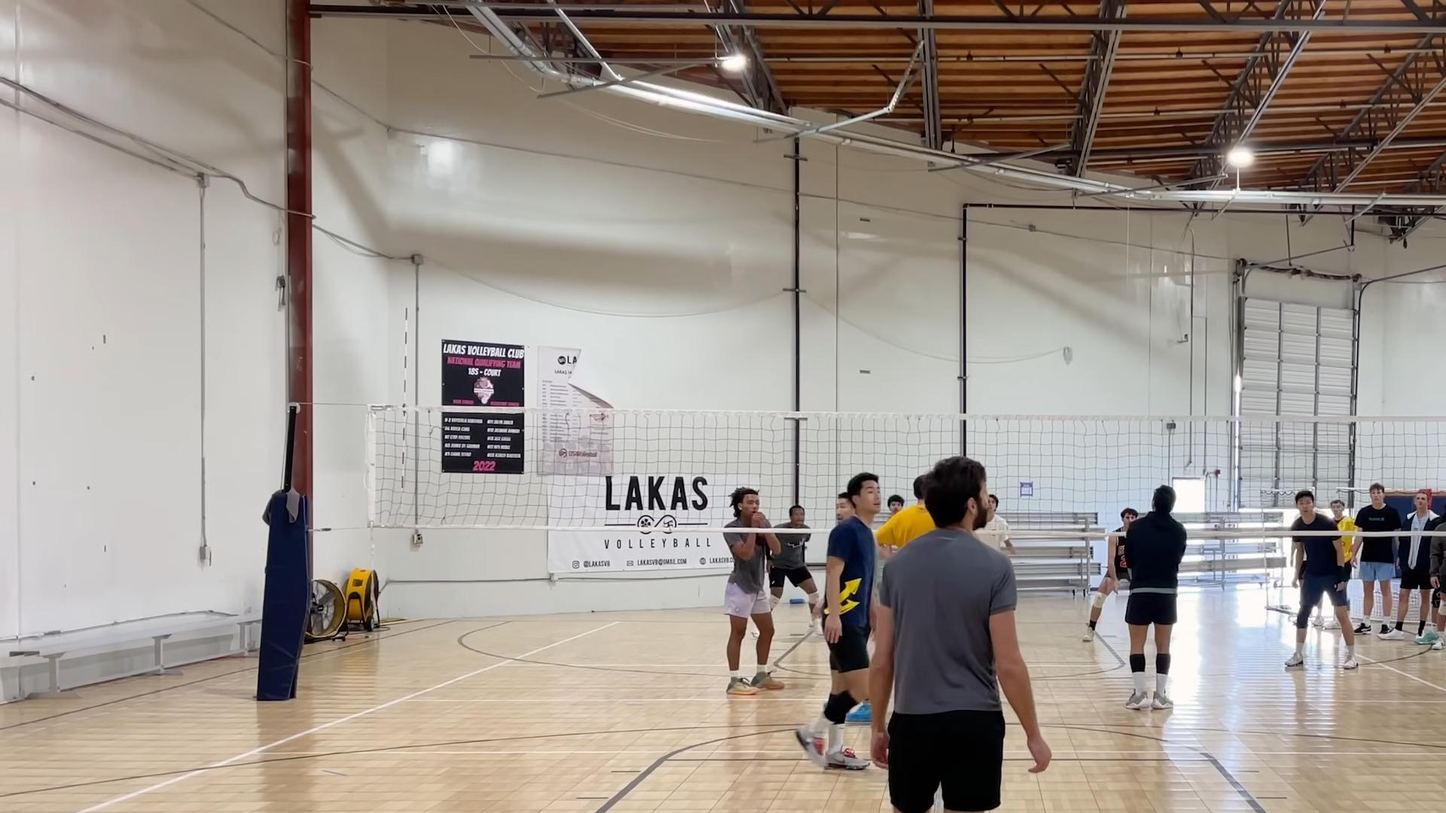Player: (870, 457, 1051, 812), (796, 473, 880, 769), (1125, 486, 1185, 708), (1285, 490, 1358, 669), (724, 487, 782, 695), (874, 475, 935, 600), (1082, 507, 1138, 641), (770, 505, 819, 611), (877, 475, 935, 560), (983, 494, 1014, 556), (836, 492, 853, 523), (886, 495, 905, 515)
